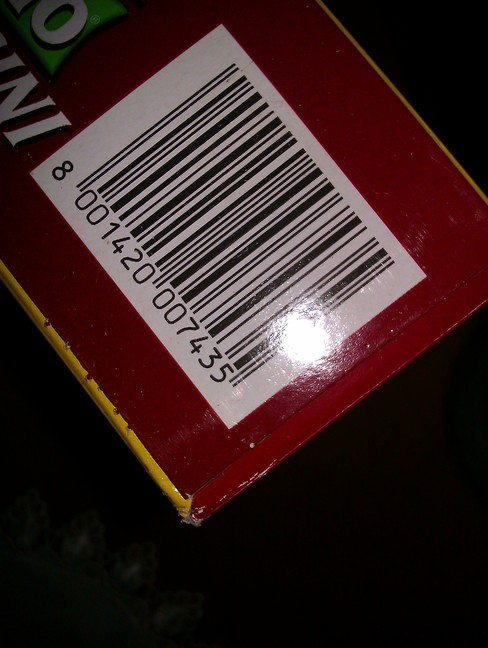barcode: (31, 56, 427, 422)
